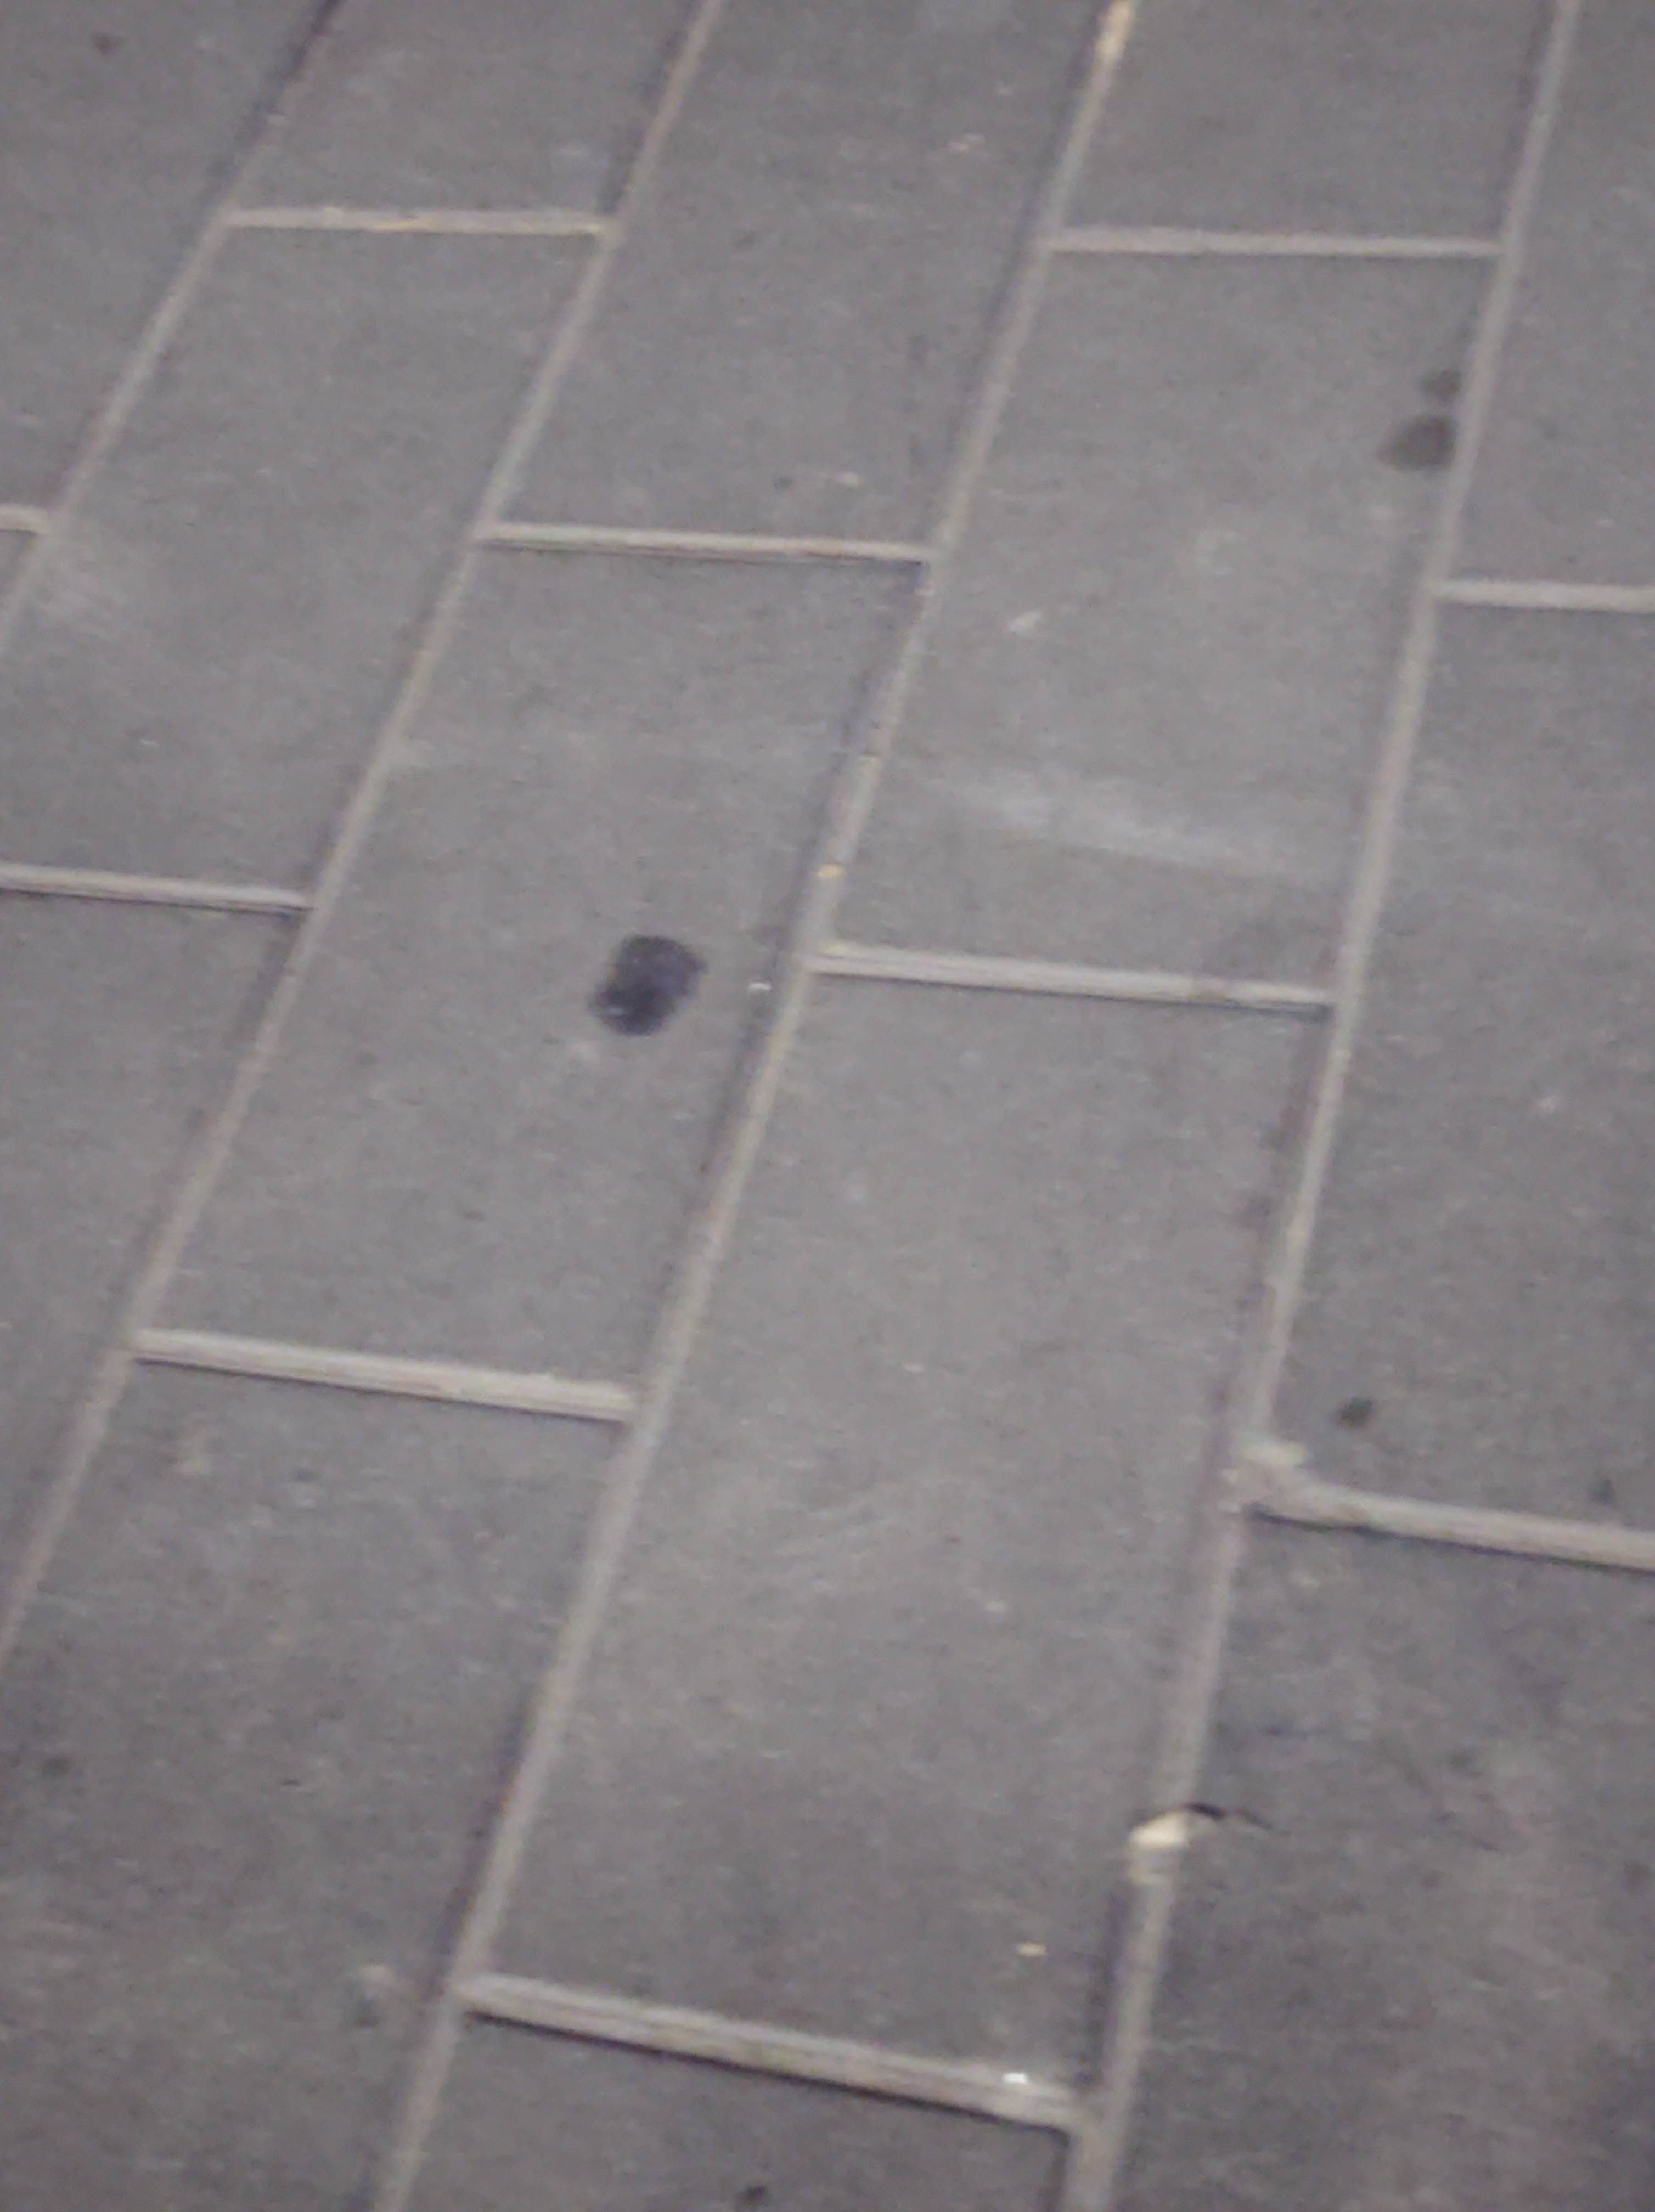grey spot: (588, 935, 709, 1034)
